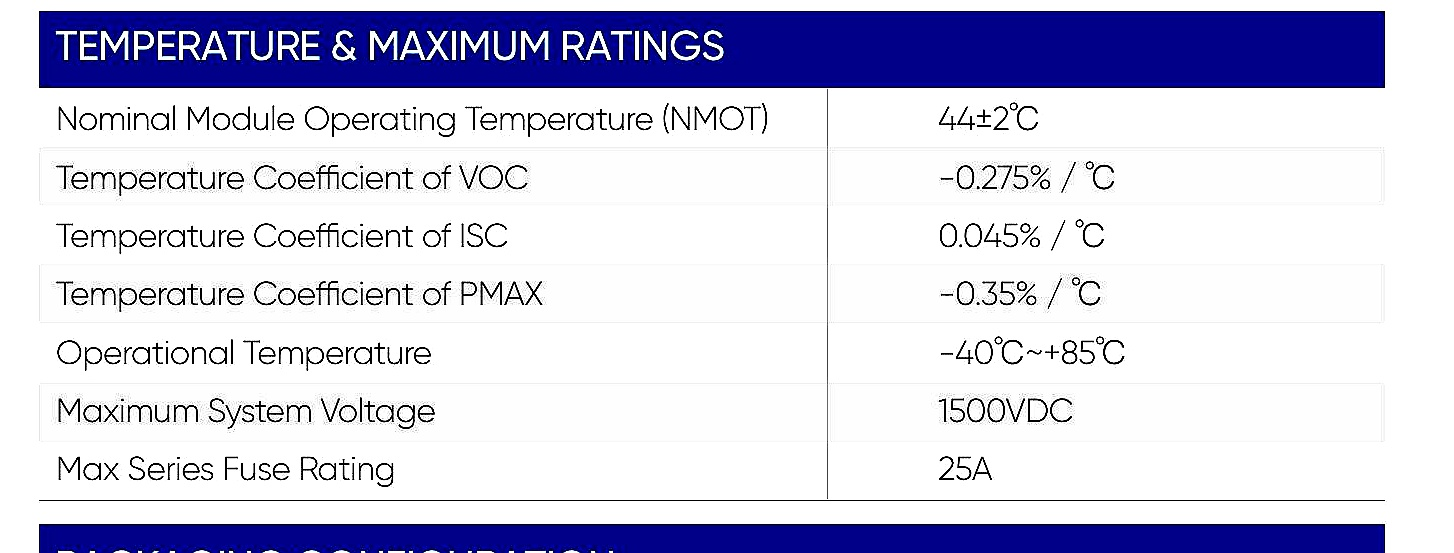table: (25, 6, 1402, 505)
table column: (42, 10, 828, 502), (827, 12, 1382, 501)
table name: (41, 17, 1386, 86)
table row: (37, 13, 1395, 90), (37, 146, 1385, 205), (37, 208, 1385, 266), (39, 385, 1383, 441), (39, 91, 1391, 146), (36, 326, 1382, 381), (35, 270, 1382, 321), (39, 447, 1390, 495)
table row header: (39, 7, 824, 500)
table spanning cell: (43, 14, 1389, 81)
